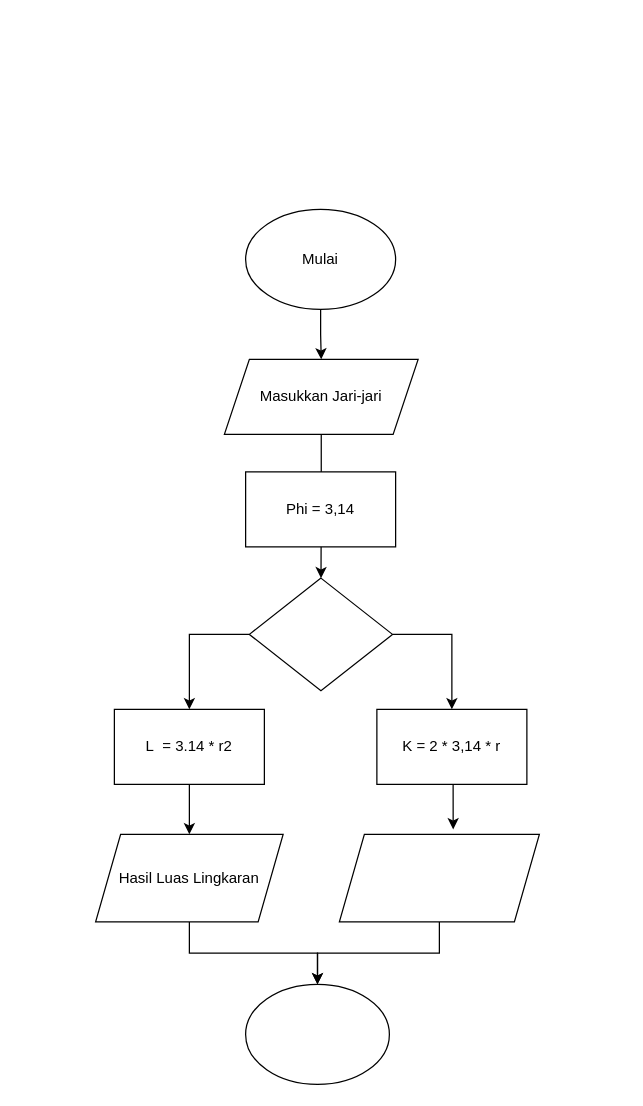
Some shapes in this 643 by 1106 pixel diagram are drawn without their labels. The box of each missing label's shape, as (x1, y1, x2, y2) in pixels:
Hasil Keliling LIngkaran: (338, 833, 539, 922)
Luas / Keliling: (248, 577, 392, 691)
Selesai: (244, 983, 389, 1084)
